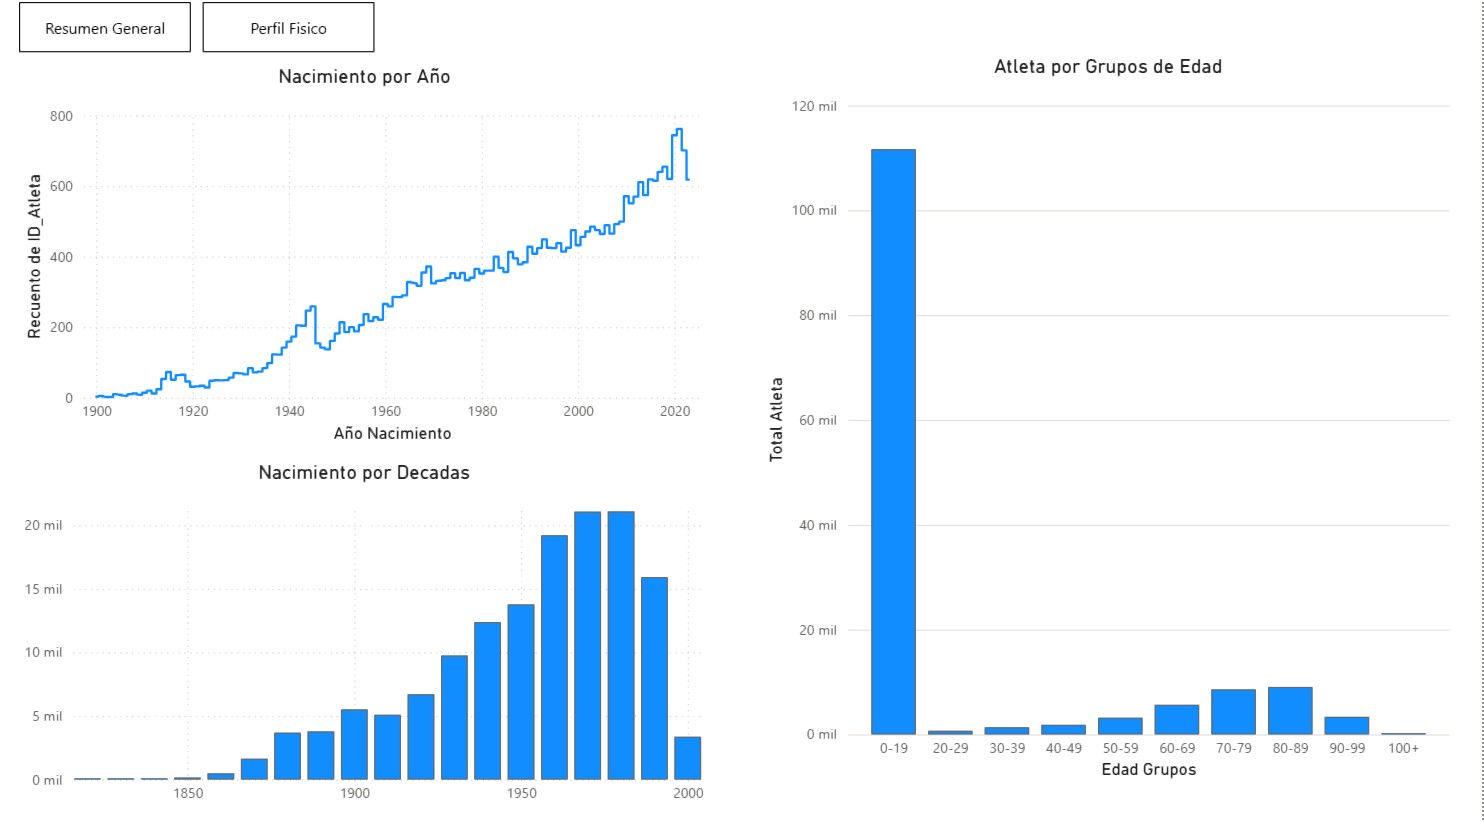

Layout of this report page (visuals, bound fields, positions):
{"tool":"powerbi","page":{"name":"Tiempo","canvas":[1280,720],"ordinal":2},"visuals":[{"type":"lineChart","title":"Nacimiento por Año","fields":{"Category":["bios_new.Año_Nacimiento"],"Y":["CountNonNull(bios_new.ID_Atleta)"]},"box":[29.1,61.6,590.9,328.4],"z":0},{"type":"clusteredColumnChart","title":"Nacimiento por Decadas","fields":{"Category":["bios_new.Decada_Nacimiento"],"Y":["CountNonNull(bios_new.Atleta)"]},"box":[28.6,399.8,592.1,303.2],"z":1000},{"type":"columnChart","title":"Atleta por Grupos de Edad","fields":{"Category":["bios_new.Edad_Grupos"],"Y":["MEDIDAS.Total_Atleta"]},"box":[663.2,52.7,593.6,624.8],"z":2000},{"type":"pageNavigator","box":[28.9,8.7,304.3,43.7],"z":4000}]}

Visuals, with their boxes in screenshot pixels (x1, y1, x2, y2), scaled from the page's 1280x720 canvas onto the 1484x822 screenshot:
"Nacimiento por Año" lineChart: pyautogui.locateOnScreen(34, 70, 719, 445)
"Nacimiento por Decadas" clusteredColumnChart: pyautogui.locateOnScreen(33, 456, 720, 803)
"Atleta por Grupos de Edad" columnChart: pyautogui.locateOnScreen(769, 60, 1457, 773)
pageNavigator: pyautogui.locateOnScreen(34, 10, 386, 60)
